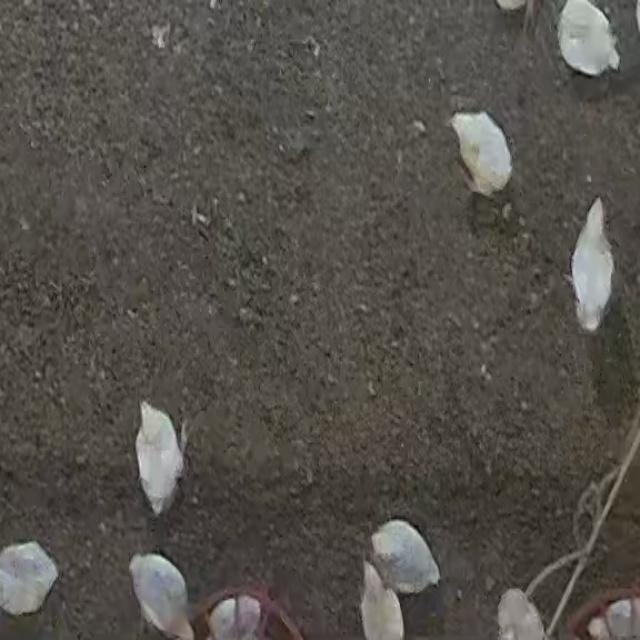chicken: (124, 398, 196, 513), (565, 195, 615, 335), (125, 548, 199, 640), (449, 109, 515, 199), (368, 518, 443, 597), (555, 0, 619, 77)
